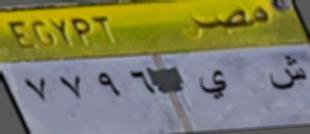6: (125, 64, 158, 104)
7: (55, 70, 86, 105), (22, 73, 51, 108)
9: (96, 71, 123, 106)
sheen: (267, 49, 310, 96)
yaa: (194, 65, 235, 105)
